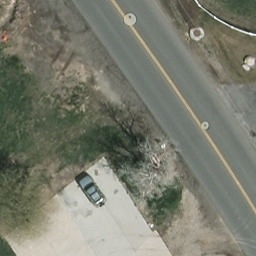car: (76, 172, 107, 207)
